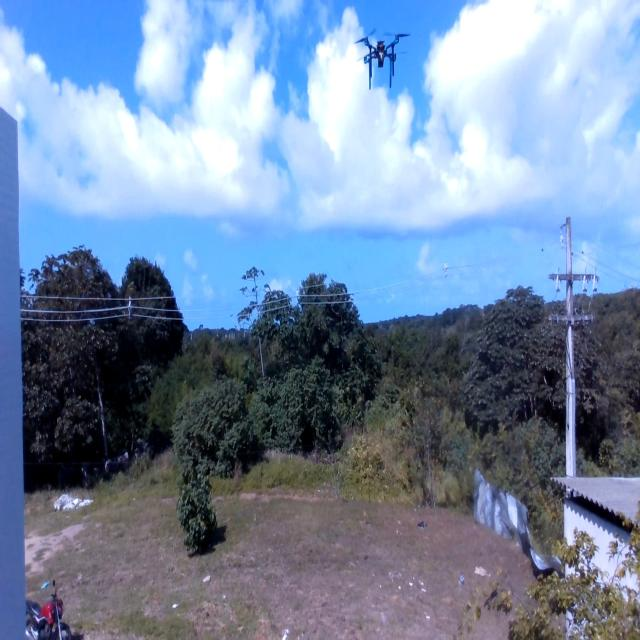-uav-: (353, 16, 412, 98)
